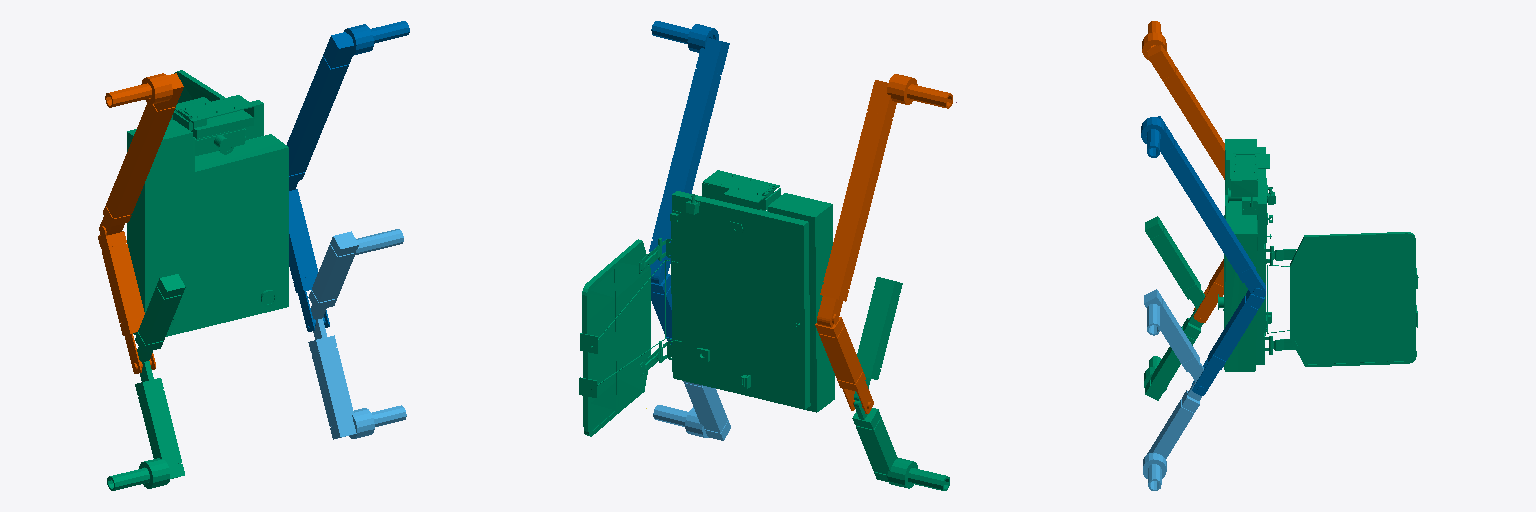
--- What the picture shows (computed from the rendered views, not written in the file) ---
Views: 3 orthographic renders of the robot side by side, from view 1: azimuth 30°, elevation 25°; view 2: azimuth 150°, elevation 25°; view 3: azimuth 270°, elevation 25°.
Model pragyaan_rover with 14 links and 13 joints (10 continuous, 3 fixed), rooted at Pragyaan, posed every joint at zero.
Links seen in each view (by area): view 1: Pragyaan, rocker_right, rocker_left, bogie_left, bogie_right; view 2: Pragyaan, rocker_right, rocker_left, bogie_right, bogie_left; view 3: Pragyaan, rocker_left, bogie_left, rocker_right, bogie_right.
Boxes of the visible links, left/top/right/bottom form: Pragyaan: left=127, top=70, right=288, bottom=336; rocker_right: left=98, top=73, right=183, bottom=373; rocker_left: left=287, top=21, right=409, bottom=331; bogie_left: left=308, top=229, right=406, bottom=439; bogie_right: left=107, top=274, right=185, bottom=490; Pragyaan: left=579, top=170, right=834, bottom=436; rocker_right: left=815, top=74, right=952, bottom=413; rocker_left: left=649, top=21, right=729, bottom=344; bogie_right: left=852, top=277, right=949, bottom=490; bogie_left: left=653, top=381, right=730, bottom=440; Pragyaan: left=1218, top=139, right=1418, bottom=371; rocker_left: left=1141, top=116, right=1265, bottom=395; bogie_left: left=1143, top=289, right=1203, bottom=490; rocker_right: left=1142, top=21, right=1224, bottom=322; bogie_right: left=1144, top=216, right=1204, bottom=400.
Bounding box of the posed robot: 1.16 × 1.03 × 1.45 m (x, y, z).
32 mesh visuals loaded from 41 distinct referenced files (32 OBJ); not drawn: 9 (reference not matched to a file when rendering).

URDF robot description (pragyaan_rover):
<?xml version="1.0" encoding="UTF-8"?>
<robot name="pragyaan_rover">
  <joint name="bogie_l" type="continuous">
    <origin xyz="0.0754756 0.3607256 -0.2064196" rpy="-0.0000002 0. 0.0000004"/>
    <parent link="rocker_left"/>
    <child link="bogie_left"/>
    <axis xyz="1. 0. 0."/>
  </joint>
  <joint name="bogie_r" type="continuous">
    <origin xyz="-0.0661764 0.3610772 -0.1975457" rpy="-0.0000002 0. 0.0000004"/>
    <parent link="rocker_right"/>
    <child link="bogie_right"/>
    <axis xyz="1. 0. 0."/>
  </joint>
  <joint name="joint_Pragyaan-Body_NavCam_left_NavCam_left" type="fixed">
    <origin xyz="0.1591243 0.1491396 0.36693 " rpy="2.9575973 -0.0082019 -3.1400664"/>
    <parent link="Pragyaan"/>
    <child link="Body_NavCam_left_NavCam_left"/>
  </joint>
  <joint name="joint_Pragyaan-Body_NavCam_right_NavCam_right" type="fixed">
    <origin xyz="-0.159981 0.1491396 0.36693 " rpy="2.9575973 -0.0082019 -3.1400664"/>
    <parent link="Pragyaan"/>
    <child link="Body_NavCam_right_NavCam_right"/>
  </joint>
  <joint name="joint_Pragyaan-depth_cam" type="fixed">
    <origin xyz="-0.0041552 0.1451544 0.3489496" rpy="-3.1392138 0.0998254 3.14032 "/>
    <parent link="Pragyaan"/>
    <child link="depth_cam"/>
  </joint>
  <joint name="rocker_l" type="continuous">
    <origin xyz="0.2612816 0.1085687 0.0289955" rpy="-1.5707961 -0.0000004 0. "/>
    <parent link="Pragyaan"/>
    <child link="rocker_left"/>
    <axis xyz="1. 0. 0."/>
  </joint>
  <joint name="rocker_r" type="continuous">
    <origin xyz="-0.2565102 0.1044748 0.0308113" rpy="-1.5707963 -0. 0. "/>
    <parent link="Pragyaan"/>
    <child link="rocker_right"/>
    <axis xyz="1. 0. 0."/>
  </joint>
  <joint name="wheel_bl" type="continuous">
    <origin xyz="0.2446567 0.3255871 -0.1849768" rpy="-0.9082444 0. 0. "/>
    <parent link="bogie_left"/>
    <child link="Wheel_back_left"/>
    <axis xyz="1. 0. 0."/>
  </joint>
  <joint name="wheel_br" type="continuous">
    <origin xyz="-0.2516727 0.3308002 -0.1864157" rpy="0.1365122 0. 0. "/>
    <parent link="bogie_right"/>
    <child link="Wheel_back_right"/>
    <axis xyz="1. 0. 0."/>
  </joint>
  <joint name="wheel_fl" type="continuous">
    <origin xyz="0.3204064 -0.6752018 -0.3913617" rpy="-1.3830266 0. 0.0000004"/>
    <parent link="rocker_left"/>
    <child link="Wheel_front_left"/>
    <axis xyz="1. 0. 0."/>
  </joint>
  <joint name="wheel_fr" type="continuous">
    <origin xyz="-0.3177407 -0.6728966 -0.3839952" rpy="1.7787697 0. 0.0000004"/>
    <parent link="rocker_right"/>
    <child link="Wheel_front_right"/>
    <axis xyz="1. 0. 0."/>
  </joint>
  <joint name="wheel_ml" type="continuous">
    <origin xyz="0.2452282 -0.3030834 -0.1850814" rpy="-1.0145161 0. 0. "/>
    <parent link="bogie_left"/>
    <child link="Wheel_middle_left"/>
    <axis xyz="1. 0. 0."/>
  </joint>
  <joint name="wheel_mr" type="continuous">
    <origin xyz="-0.2524492 -0.2997136 -0.1855052" rpy="2.1274116 0. 0. "/>
    <parent link="bogie_right"/>
    <child link="Wheel_middle_right"/>
    <axis xyz="1. 0. 0."/>
  </joint>
  <link name="Body_NavCam_left_NavCam_left"/>
  <link name="Body_NavCam_right_NavCam_right"/>
  <link name="Pragyaan">
    <visual>
      <origin xyz="0.0011804 0.1122519 0.0243774" rpy="-1.5707965 0.1820427 -0. "/>
      <geometry>
        <mesh filename="package://rover_description/meshes/Body_body_top_body_top.obj" scale="0.5 0.5 0.5"/>
      </geometry>
    </visual>
    <visual>
      <origin xyz="0.0016626 0.17169 0.0209961" rpy="-1.5707965 0.1820427 -0. "/>
      <geometry>
        <mesh filename="package://rover_description/meshes/Body_body_main_body_main.obj" scale="0.5 0.5 0.5"/>
      </geometry>
    </visual>
    <visual>
      <origin xyz="0.0016626 0.17169 0.0209961" rpy="-1.5707965 0.1820427 -0. "/>
      <geometry>
        <mesh filename="package://rover_description/meshes/body_attachments.obj" scale="0.5 0.5 0.5"/>
      </geometry>
    </visual>
    <visual>
      <origin xyz="0.0016626 0.17169 0.0209961" rpy="-1.5707965 0.1820427 -0. "/>
      <geometry>
        <mesh filename="package://rover_description/meshes/red_sensor_01.obj" scale="0.5 0.5 0.5"/>
      </geometry>
    </visual>
    <visual>
      <origin xyz="0.1603076 0.1486673 0.3447998" rpy="-1.4469512 0. 0. "/>
      <geometry>
        <mesh filename="package://rover_description/meshes/Body_NavCam_left_Cube_078_silver_metal_0_Cube_078_silver_metal_0.obj" scale="0.6903735 0.6903736 0.6903736"/>
      </geometry>
    </visual>
    <visual>
      <origin xyz="0.1603076 0.1486673 0.3447998" rpy="-1.4469512 0. 0. "/>
      <geometry>
        <mesh filename="package://rover_description/meshes/Body_NavCam_left_Cube_078_black_0_Cube_078_black_0.obj" scale="0.6903735 0.6903736 0.6903736"/>
      </geometry>
    </visual>
    <visual>
      <origin xyz="-0.1587976 0.1486673 0.3447998" rpy="-1.4469512 0. 0. "/>
      <geometry>
        <mesh filename="package://rover_description/meshes/Body_NavCam_right_Cube_079_silver_metal_0_Cube_079_silver_metal_0.obj" scale="0.6903735 0.6903736 0.6903736"/>
      </geometry>
    </visual>
    <visual>
      <origin xyz="-0.1587976 0.1486673 0.3447998" rpy="-1.4469512 0. 0. "/>
      <geometry>
        <mesh filename="package://rover_description/meshes/Body_NavCam_right_Cube_079_black_0_Cube_079_black_0.obj" scale="0.6903735 0.6903736 0.6903736"/>
      </geometry>
    </visual>
    <visual>
      <origin xyz="0.13099 0.0772696 0.4068896" rpy="-1.5773519 0.1690651 -0.0063767"/>
      <geometry>
        <mesh filename="package://rover_description/meshes/APXS_001_wheels_001_black_0_wheels_001_black_0.obj" scale="0.4139922 0.4139885 0.451397 "/>
      </geometry>
    </visual>
    <visual>
      <origin xyz="0.13099 0.0772696 0.4068896" rpy="-1.5773519 0.1690651 -0.0063767"/>
      <geometry>
        <mesh filename="package://rover_description/meshes/APXS_001_wheels_001_glass_0_wheels_001_glass_0.obj" scale="0.4139922 0.4139885 0.451397 "/>
      </geometry>
    </visual>
    <visual>
      <origin xyz="0.13099 0.0772696 0.4068896" rpy="-1.5773519 0.1690651 -0.0063767"/>
      <geometry>
        <mesh filename="package://rover_description/meshes/APXS_001_wheels_001_red_sensor_0_wheels_001_red_sensor_0.obj" scale="0.4139922 0.4139885 0.451397 "/>
      </geometry>
    </visual>
    <visual>
      <origin xyz="0.0204041 0.0768395 0.3845825" rpy="-1.5707965 0.1820427 -0. "/>
      <geometry>
        <mesh filename="package://rover_description/meshes/APXS_002_wheels_002_black_0_wheels_002_black_0.obj" scale="0.3855481 0.3855481 0.4514027"/>
      </geometry>
    </visual>
    <visual>
      <origin xyz="0.0486792 0.0740127 0.2939331" rpy="-1.5707965 0. 0. "/>
      <geometry>
        <mesh filename="package://rover_description/meshes/APXS_003_Cube_076_black_0_Cube_076_black_0.obj" scale="0.3855482 0.3855482 0.4514027"/>
      </geometry>
    </visual>
    <visual>
      <origin xyz="0.1470642 0.0776972 0.3177978" rpy="-1.5707965 0. 0. "/>
      <geometry>
        <mesh filename="package://rover_description/meshes/APXS_004_Cylinder_black_0_Cylinder_black_0.obj" scale="0.5386098 0.5386098 0.6306084"/>
      </geometry>
    </visual>
    <visual>
      <origin xyz="-0.224541 0.1350447 -0.0022461" rpy="-1.5707965 0. 0. "/>
      <geometry>
        <mesh filename="package://rover_description/meshes/attachment_041_Cylinder_041_silver_metal_0_Cylinder_041_silver_metal_0.obj" scale="0.002557 0.002557 0.002557"/>
      </geometry>
    </visual>
    <visual>
      <origin xyz="-0.172439 0.1212981 -0.1923462" rpy="-1.5707965 0. 0. "/>
      <geometry>
        <mesh filename="package://rover_description/meshes/attachment_007_Plane_007_silver_metal_0_Plane_007_silver_metal_0.obj" scale="0.0203416 0.0147812 0.1646361"/>
      </geometry>
    </visual>
    <visual>
      <origin xyz="0.1303589 0.1310241 -0.1923462" rpy="-1.5707965 0. 0. "/>
      <geometry>
        <mesh filename="package://rover_description/meshes/attachment_006_Plane_006_silver_metal_0_Plane_006_silver_metal_0.obj" scale="0.0203416 0.0147812 0.1646361"/>
      </geometry>
    </visual>
    <visual>
      <origin xyz="-0.0270874 0.141632 -0.2469788" rpy="1.570798 0.0000016 1.5707964"/>
      <geometry>
        <mesh filename="package://rover_description/meshes/attachment_080_Cube_080_silver_metal_0_Cube_080_silver_metal_0.obj" scale="0.0156034 0.0206397 0.0029843"/>
      </geometry>
    </visual>
    <visual>
      <origin xyz="0.0082898 0.1358565 0.2869263" rpy="-1.5707965 0. 0. "/>
      <geometry>
        <mesh filename="package://rover_description/meshes/attachment_005_Plane_005_silver_metal_0_Plane_005_silver_metal_0.obj" scale="0.0203416 0.0147812 0.0339739"/>
      </geometry>
    </visual>
    <visual>
      <origin xyz="0.232854 0.1460427 0.2807739" rpy="-1.5707965 0. 0. "/>
      <geometry>
        <mesh filename="package://rover_description/meshes/attachment_075_Cube_075_silver_metal_0_Cube_075_silver_metal_0.obj" scale="0.0156034 0.0156034 0.0029843"/>
      </geometry>
    </visual>
    <visual>
      <origin xyz="-0.2309241 0.1460427 0.2807739" rpy="3.1415927 0. 3.1415927"/>
      <geometry>
        <mesh filename="package://rover_description/meshes/attachment_077_Cube_077_silver_metal_0_Cube_077_silver_metal_0.obj" scale="0.0156034 0.0156034 0.0029843"/>
      </geometry>
    </visual>
    <visual>
      <origin xyz="0.2880847 0.1503942 -0.021416 " rpy="-1.5651225 0.0051784 0.0725363"/>
      <geometry>
        <mesh filename="package://rover_description/meshes/solarPanel_wheels_004_silver_metal_0_wheels_004_silver_metal_0.obj" scale="0.5869197 0.6009468 0.7220386"/>
      </geometry>
    </visual>
    <visual>
      <origin xyz="0.2880847 0.1503942 -0.021416 " rpy="-1.5651225 0.0051784 0.0725363"/>
      <geometry>
        <mesh filename="package://rover_description/meshes/solarPanel_wheels_004_black_0_wheels_004_black_0.obj" scale="0.5869197 0.6009468 0.7220386"/>
      </geometry>
    </visual>
    <visual>
      <origin xyz="0.2880847 0.1503942 -0.021416 " rpy="-1.5651225 0.0051784 0.0725363"/>
      <geometry>
        <mesh filename="package://rover_description/meshes/solarPanel_wheels_004_solar_001_0_wheels_004_solar_001_0.obj" scale="0.5869197 0.6009468 0.7220386"/>
      </geometry>
    </visual>
    <visual>
      <origin xyz="0.2880847 0.1503942 -0.021416 " rpy="-1.5651225 0.0051784 0.0725363"/>
      <geometry>
        <mesh filename="package://rover_description/meshes/solarPanel_wheels_004_Material_002_0_wheels_004_Material_002_0.obj" scale="0.5869197 0.6009468 0.7220386"/>
      </geometry>
    </visual>
    <collision>
      <origin xyz="0.0011804 0.1122519 0.0243774" rpy="-1.5707965 0.1820427 -0. "/>
      <geometry>
        <mesh filename="package://rover_description/meshes/Body_body_top_body_top.obj" scale="0.5 0.5 0.5"/>
      </geometry>
    </collision>
    <collision>
      <origin xyz="0.0016626 0.17169 0.0209961" rpy="-1.5707965 0.1820427 -0. "/>
      <geometry>
        <mesh filename="package://rover_description/meshes/Body_body_main_body_main.obj" scale="0.5 0.5 0.5"/>
      </geometry>
    </collision>
    <collision>
      <origin xyz="0.0016626 0.17169 0.0209961" rpy="-1.5707965 0.1820427 -0. "/>
      <geometry>
        <mesh filename="package://rover_description/meshes/body_attachments.obj" scale="0.5 0.5 0.5"/>
      </geometry>
    </collision>
    <collision>
      <origin xyz="0.1603076 0.1486673 0.3447998" rpy="-1.4469512 0. 0. "/>
      <geometry>
        <mesh filename="package://rover_description/meshes/Body_NavCam_left_Cube_078_silver_metal_0_Cube_078_silver_metal_0.obj" scale="0.6903735 0.6903736 0.6903736"/>
      </geometry>
    </collision>
    <collision>
      <origin xyz="-0.1587976 0.1486673 0.3447998" rpy="-1.4469512 0. 0. "/>
      <geometry>
        <mesh filename="package://rover_description/meshes/Body_NavCam_right_Cube_079_silver_metal_0_Cube_079_silver_metal_0.obj" scale="0.6903735 0.6903736 0.6903736"/>
      </geometry>
    </collision>
    <collision>
      <origin xyz="0.13099 0.0772696 0.4068896" rpy="-1.5773519 0.1690651 -0.0063767"/>
      <geometry>
        <mesh filename="package://rover_description/meshes/APXS_001_wheels_001_black_0_wheels_001_black_0.obj" scale="0.4139922 0.4139885 0.451397 "/>
      </geometry>
    </collision>
    <collision>
      <origin xyz="0.13099 0.0772696 0.4068896" rpy="-1.5773519 0.1690651 -0.0063767"/>
      <geometry>
        <mesh filename="package://rover_description/meshes/APXS_001_wheels_001_glass_0_wheels_001_glass_0.obj" scale="0.4139922 0.4139885 0.451397 "/>
      </geometry>
    </collision>
    <collision>
      <origin xyz="0.13099 0.0772696 0.4068896" rpy="-1.5773519 0.1690651 -0.0063767"/>
      <geometry>
        <mesh filename="package://rover_description/meshes/APXS_001_wheels_001_red_sensor_0_wheels_001_red_sensor_0.obj" scale="0.4139922 0.4139885 0.451397 "/>
      </geometry>
    </collision>
    <collision>
      <origin xyz="0.0204041 0.0768395 0.3845825" rpy="-1.5707965 0.1820427 -0. "/>
      <geometry>
        <mesh filename="package://rover_description/meshes/APXS_002_wheels_002_black_0_wheels_002_black_0.obj" scale="0.3855481 0.3855481 0.4514027"/>
      </geometry>
    </collision>
    <collision>
      <origin xyz="0.0486792 0.0740127 0.2939331" rpy="-1.5707965 0. 0. "/>
      <geometry>
        <mesh filename="package://rover_description/meshes/APXS_003_Cube_076_black_0_Cube_076_black_0.obj" scale="0.3855482 0.3855482 0.4514027"/>
      </geometry>
    </collision>
    <collision>
      <origin xyz="0.1470642 0.0776972 0.3177978" rpy="-1.5707965 0. 0. "/>
      <geometry>
        <mesh filename="package://rover_description/meshes/APXS_004_Cylinder_black_0_Cylinder_black_0.obj" scale="0.5386098 0.5386098 0.6306084"/>
      </geometry>
    </collision>
    <collision>
      <origin xyz="-0.224541 0.1350447 -0.0022461" rpy="-1.5707965 0. 0. "/>
      <geometry>
        <mesh filename="package://rover_description/meshes/attachment_041_Cylinder_041_silver_metal_0_Cylinder_041_silver_metal_0.obj" scale="0.002557 0.002557 0.002557"/>
      </geometry>
    </collision>
    <collision>
      <origin xyz="-0.172439 0.1212981 -0.1923462" rpy="-1.5707965 0. 0. "/>
      <geometry>
        <mesh filename="package://rover_description/meshes/attachment_007_Plane_007_silver_metal_0_Plane_007_silver_metal_0.obj" scale="0.0203416 0.0147812 0.1646361"/>
      </geometry>
    </collision>
    <collision>
      <origin xyz="0.1303589 0.1310241 -0.1923462" rpy="-1.5707965 0. 0. "/>
      <geometry>
        <mesh filename="package://rover_description/meshes/attachment_006_Plane_006_silver_metal_0_Plane_006_silver_metal_0.obj" scale="0.0203416 0.0147812 0.1646361"/>
      </geometry>
    </collision>
    <collision>
      <origin xyz="-0.0270874 0.141632 -0.2469788" rpy="1.570798 0.0000016 1.5707964"/>
      <geometry>
        <mesh filename="package://rover_description/meshes/attachment_080_Cube_080_silver_metal_0_Cube_080_silver_metal_0.obj" scale="0.0156034 0.0206397 0.0029843"/>
      </geometry>
    </collision>
    <collision>
      <origin xyz="0.0082898 0.1358565 0.2869263" rpy="-1.5707965 0. 0. "/>
      <geometry>
        <mesh filename="package://rover_description/meshes/attachment_005_Plane_005_silver_metal_0_Plane_005_silver_metal_0.obj" scale="0.0203416 0.0147812 0.0339739"/>
      </geometry>
    </collision>
    <collision>
      <origin xyz="0.232854 0.1460427 0.2807739" rpy="-1.5707965 0. 0. "/>
      <geometry>
        <mesh filename="package://rover_description/meshes/attachment_075_Cube_075_silver_metal_0_Cube_075_silver_metal_0.obj" scale="0.0156034 0.0156034 0.0029843"/>
      </geometry>
    </collision>
    <collision>
      <origin xyz="-0.2309241 0.1460427 0.2807739" rpy="3.1415927 0. 3.1415927"/>
      <geometry>
        <mesh filename="package://rover_description/meshes/attachment_077_Cube_077_silver_metal_0_Cube_077_silver_metal_0.obj" scale="0.0156034 0.0156034 0.0029843"/>
      </geometry>
    </collision>
  </link>
  <link name="Wheel_back_left">
    <visual>
      <origin xyz="0. 0. 0." rpy="0. 0. 0."/>
      <geometry>
        <mesh filename="package://rover_description/meshes/Wheel_back_left_Circle_006_silver_metal_0_Circle_006_silver_metal_0.obj" scale="0.01 0.01 0.01"/>
      </geometry>
    </visual>
    <collision>
      <origin xyz="0. 0. 0." rpy="0. 0. 0."/>
      <geometry>
        <mesh filename="package://rover_description/meshes/Wheel_back_left_Circle_006_silver_metal_0_Circle_006_silver_metal_0.obj" scale="0.01 0.01 0.01"/>
      </geometry>
    </collision>
  </link>
  <link name="Wheel_back_right">
    <visual>
      <origin xyz="0. 0. 0." rpy="0. 0. 0."/>
      <geometry>
        <mesh filename="package://rover_description/meshes/Wheel_back_right_Circle_003_silver_metal_0_Circle_003_silver_metal_0.obj" scale="0.01 0.01 0.01"/>
      </geometry>
    </visual>
    <collision>
      <origin xyz="0. 0. 0." rpy="0. 0. 0."/>
      <geometry>
        <mesh filename="package://rover_description/meshes/Wheel_back_right_Circle_003_silver_metal_0_Circle_003_silver_metal_0.obj" scale="0.01 0.01 0.01"/>
      </geometry>
    </collision>
  </link>
  <link name="Wheel_front_left">
    <visual>
      <origin xyz="0. 0. 0." rpy="0. 0. 0."/>
      <geometry>
        <mesh filename="package://rover_description/meshes/Wheel_front_left_Circle_005_silver_metal_0_Circle_005_silver_metal_0.obj" scale="0.01 0.01 0.01"/>
      </geometry>
    </visual>
    <collision>
      <origin xyz="0. 0. 0." rpy="0. 0. 0."/>
      <geometry>
        <mesh filename="package://rover_description/meshes/Wheel_front_left_Circle_005_silver_metal_0_Circle_005_silver_metal_0.obj" scale="0.01 0.01 0.01"/>
      </geometry>
    </collision>
  </link>
  <link name="Wheel_front_right">
    <visual>
      <origin xyz="0. 0. 0." rpy="0. 0. 0."/>
      <geometry>
        <mesh filename="package://rover_description/meshes/Wheel_front_right_Circle_002_silver_metal_0_Circle_002_silver_metal_0.obj" scale="0.01 0.01 0.01"/>
      </geometry>
    </visual>
    <collision>
      <origin xyz="0. 0. 0." rpy="0. 0. 0."/>
      <geometry>
        <mesh filename="package://rover_description/meshes/Wheel_front_right_Circle_002_silver_metal_0_Circle_002_silver_metal_0.obj" scale="0.01 0.01 0.01"/>
      </geometry>
    </collision>
  </link>
  <link name="Wheel_middle_left">
    <visual>
      <origin xyz="0. 0. 0." rpy="0. 0. 0."/>
      <geometry>
        <mesh filename="package://rover_description/meshes/Wheel_middle_left_Circle_007_black_0_Circle_007_black_0.obj" scale="0.01 0.01 0.01"/>
      </geometry>
    </visual>
    <collision>
      <origin xyz="0. 0. 0." rpy="0. 0. 0."/>
      <geometry>
        <mesh filename="package://rover_description/meshes/Wheel_middle_left_Circle_007_black_0_Circle_007_black_0.obj" scale="0.01 0.01 0.01"/>
      </geometry>
    </collision>
  </link>
  <link name="Wheel_middle_right">
    <visual>
      <origin xyz="0. 0. 0." rpy="0. 0. 0."/>
      <geometry>
        <mesh filename="package://rover_description/meshes/Wheel_middle_right_Circle_004_black_0_Circle_004_black_0.obj" scale="0.01 0.01 0.01"/>
      </geometry>
    </visual>
    <collision>
      <origin xyz="0. 0. 0." rpy="0. 0. 0."/>
      <geometry>
        <mesh filename="package://rover_description/meshes/Wheel_middle_right_Circle_004_black_0_Circle_004_black_0.obj" scale="0.01 0.01 0.01"/>
      </geometry>
    </collision>
  </link>
  <link name="bogie_left">
    <visual>
      <origin xyz="-0.0149515 -0.006688 -0.0095517" rpy="-0.0000002 0. 0. "/>
      <geometry>
        <mesh filename="package://rover_description/meshes/Cube_024.obj" scale="1. 1. 1."/>
      </geometry>
    </visual>
    <visual>
      <origin xyz="0.0643527 -0.4817684 -0.31751 " rpy="1.5708816 -0.1804329 0.0106592"/>
      <geometry>
        <mesh filename="package://rover_description/meshes/bogie_left_midle_motor_black_motor_motor_black.obj" scale="1. 1. 1."/>
      </geometry>
    </visual>
    <visual>
      <origin xyz="-0.0159573 0.0228872 -0.0135221" rpy="-0.0000002 0. 0. "/>
      <geometry>
        <mesh filename="package://rover_description/meshes/Cube_022.obj" scale="1. 1. 1."/>
      </geometry>
    </visual>
    <collision>
      <origin xyz="-0.0149515 -0.006688 -0.0095517" rpy="-0.0000002 0. 0. "/>
      <geometry>
        <mesh filename="package://rover_description/meshes/Cube_024.obj" scale="1. 1. 1."/>
      </geometry>
    </collision>
    <collision>
      <origin xyz="0.0643527 -0.4817684 -0.31751 " rpy="1.5708816 -0.1804329 0.0106592"/>
      <geometry>
        <mesh filename="package://rover_description/meshes/bogie_left_midle_motor_black_motor_motor_black.obj" scale="1. 1. 1."/>
      </geometry>
    </collision>
    <collision>
      <origin xyz="-0.0159573 0.0228872 -0.0135221" rpy="-0.0000002 0. 0. "/>
      <geometry>
        <mesh filename="package://rover_description/meshes/Cube_022.obj" scale="1. 1. 1."/>
      </geometry>
    </collision>
  </link>
  <link name="bogie_right">
    <visual>
      <origin xyz="0.0027187 0.0264674 -0.0129617" rpy="-0.0000002 0. 0. "/>
      <geometry>
        <mesh filename="package://rover_description/meshes/Cube_018.obj" scale="1. 1. 1."/>
      </geometry>
    </visual>
    <visual>
      <origin xyz="0.0037099 -0.004912 -0.0123988" rpy="-0.0000002 0. 0. "/>
      <geometry>
        <mesh filename="package://rover_description/meshes/Cube_020.obj" scale="1. 1. 1."/>
      </geometry>
    </visual>
    <visual>
      <origin xyz="-0.0752902 -0.1173464 -0.3188631" rpy="1.570882 -0.1804329 -3.1309335"/>
      <geometry>
        <mesh filename="package://rover_description/meshes/bogie_right_midle_motor_black_motor_motor_black.obj" scale="1. 1. 1."/>
      </geometry>
    </visual>
    <collision>
      <origin xyz="0.0027187 0.0264674 -0.0129617" rpy="-0.0000002 0. 0. "/>
      <geometry>
        <mesh filename="package://rover_description/meshes/Cube_018.obj" scale="1. 1. 1."/>
      </geometry>
    </collision>
    <collision>
      <origin xyz="0.0037099 -0.004912 -0.0123988" rpy="-0.0000002 0. 0. "/>
      <geometry>
        <mesh filename="package://rover_description/meshes/Cube_020.obj" scale="1. 1. 1."/>
      </geometry>
    </collision>
    <collision>
      <origin xyz="-0.0752902 -0.1173464 -0.3188631" rpy="1.570882 -0.1804329 -3.1309335"/>
      <geometry>
        <mesh filename="package://rover_description/meshes/bogie_right_midle_motor_black_motor_motor_black.obj" scale="1. 1. 1."/>
      </geometry>
    </collision>
  </link>
  <link name="depth_cam"/>
  <link name="rocker_left">
    <visual>
      <origin xyz="0.0600604 -0.0091704 -0.0084297" rpy="0.0349064 0. 0.0000004"/>
      <geometry>
        <mesh filename="package://rover_description/meshes/Cube_027.obj" scale="1. 1. 1."/>
      </geometry>
    </visual>
    <visual>
      <origin xyz="0.0618278 0.3836201 -0.218992 " rpy="-0.0000003 0. 0.0000004"/>
      <geometry>
        <mesh filename="package://rover_description/meshes/Cube_023.obj" scale="1. 1. 1."/>
      </geometry>
    </visual>
    <collision>
      <origin xyz="0.0600604 -0.0091704 -0.0084297" rpy="0.0349064 0. 0.0000004"/>
      <geometry>
        <mesh filename="package://rover_description/meshes/Cube_027.obj" scale="1. 1. 1."/>
      </geometry>
    </collision>
    <collision>
      <origin xyz="0.0618278 0.3836201 -0.218992 " rpy="-0.0000003 0. 0.0000004"/>
      <geometry>
        <mesh filename="package://rover_description/meshes/Cube_023.obj" scale="1. 1. 1."/>
      </geometry>
    </collision>
  </link>
  <link name="rocker_right">
    <visual>
      <origin xyz="-0.0616314 -0.0044207 0.0009594" rpy="0.0349064 0. 0.0000004"/>
      <geometry>
        <mesh filename="package://rover_description/meshes/Cube_021.obj" scale="1. 1. 1."/>
      </geometry>
    </visual>
    <visual>
      <origin xyz="-0.0637702 0.3876569 -0.2102048" rpy="-0.0000003 0. 0.0000004"/>
      <geometry>
        <mesh filename="package://rover_description/meshes/Cube_019.obj" scale="1. 1. 1."/>
      </geometry>
    </visual>
    <collision>
      <origin xyz="-0.0616314 -0.0044207 0.0009594" rpy="0.0349064 0. 0.0000004"/>
      <geometry>
        <mesh filename="package://rover_description/meshes/Cube_021.obj" scale="1. 1. 1."/>
      </geometry>
    </collision>
    <collision>
      <origin xyz="-0.0637702 0.3876569 -0.2102048" rpy="-0.0000003 0. 0.0000004"/>
      <geometry>
        <mesh filename="package://rover_description/meshes/Cube_019.obj" scale="1. 1. 1."/>
      </geometry>
    </collision>
  </link>
</robot>
